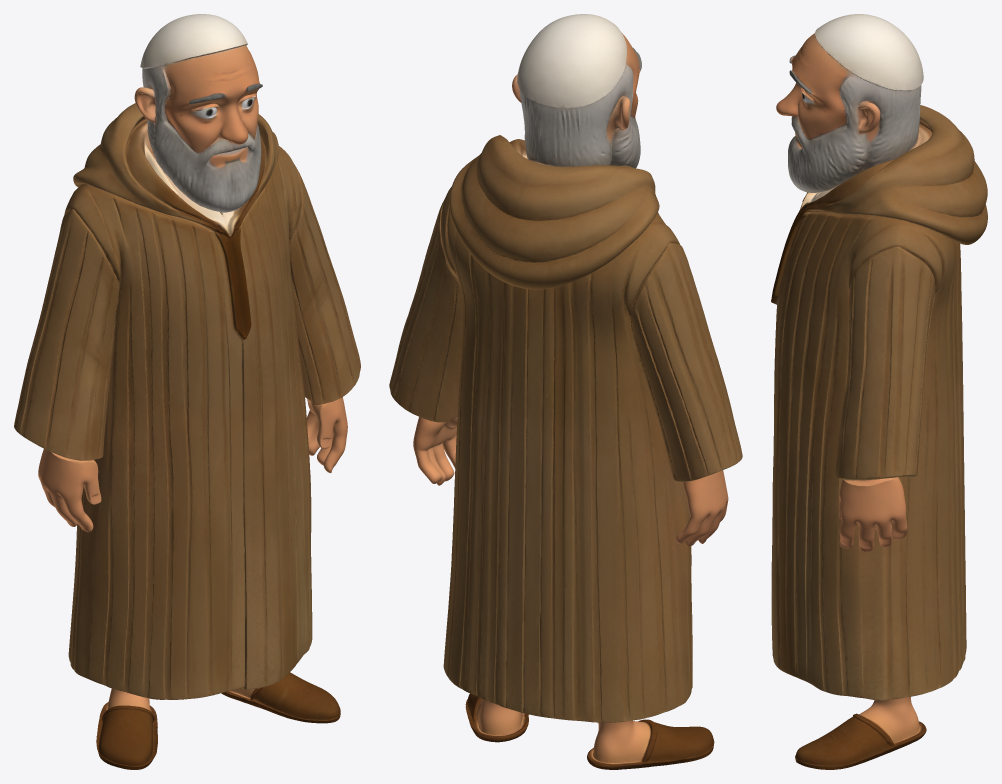
File: abdallah__base_basic_pbr.glb
3 renders of one model, left to right at view 1: azimuth 30°, elevation 25°; view 2: azimuth 150°, elevation 25°; view 3: azimuth 270°, elevation 25°, orthographic. The views are drawn at different scales.
Visible parts, largest first — view 1: model; view 2: model; view 3: model.
Part boxes in pixels (<box>): model: <box>14,14,360,769</box>; model: <box>389,14,742,769</box>; model: <box>771,14,987,769</box>.
Size of the model in its own units: 0.9501 by 1.9 by 0.5385.
Materials: 1 (1 with a texture image).
